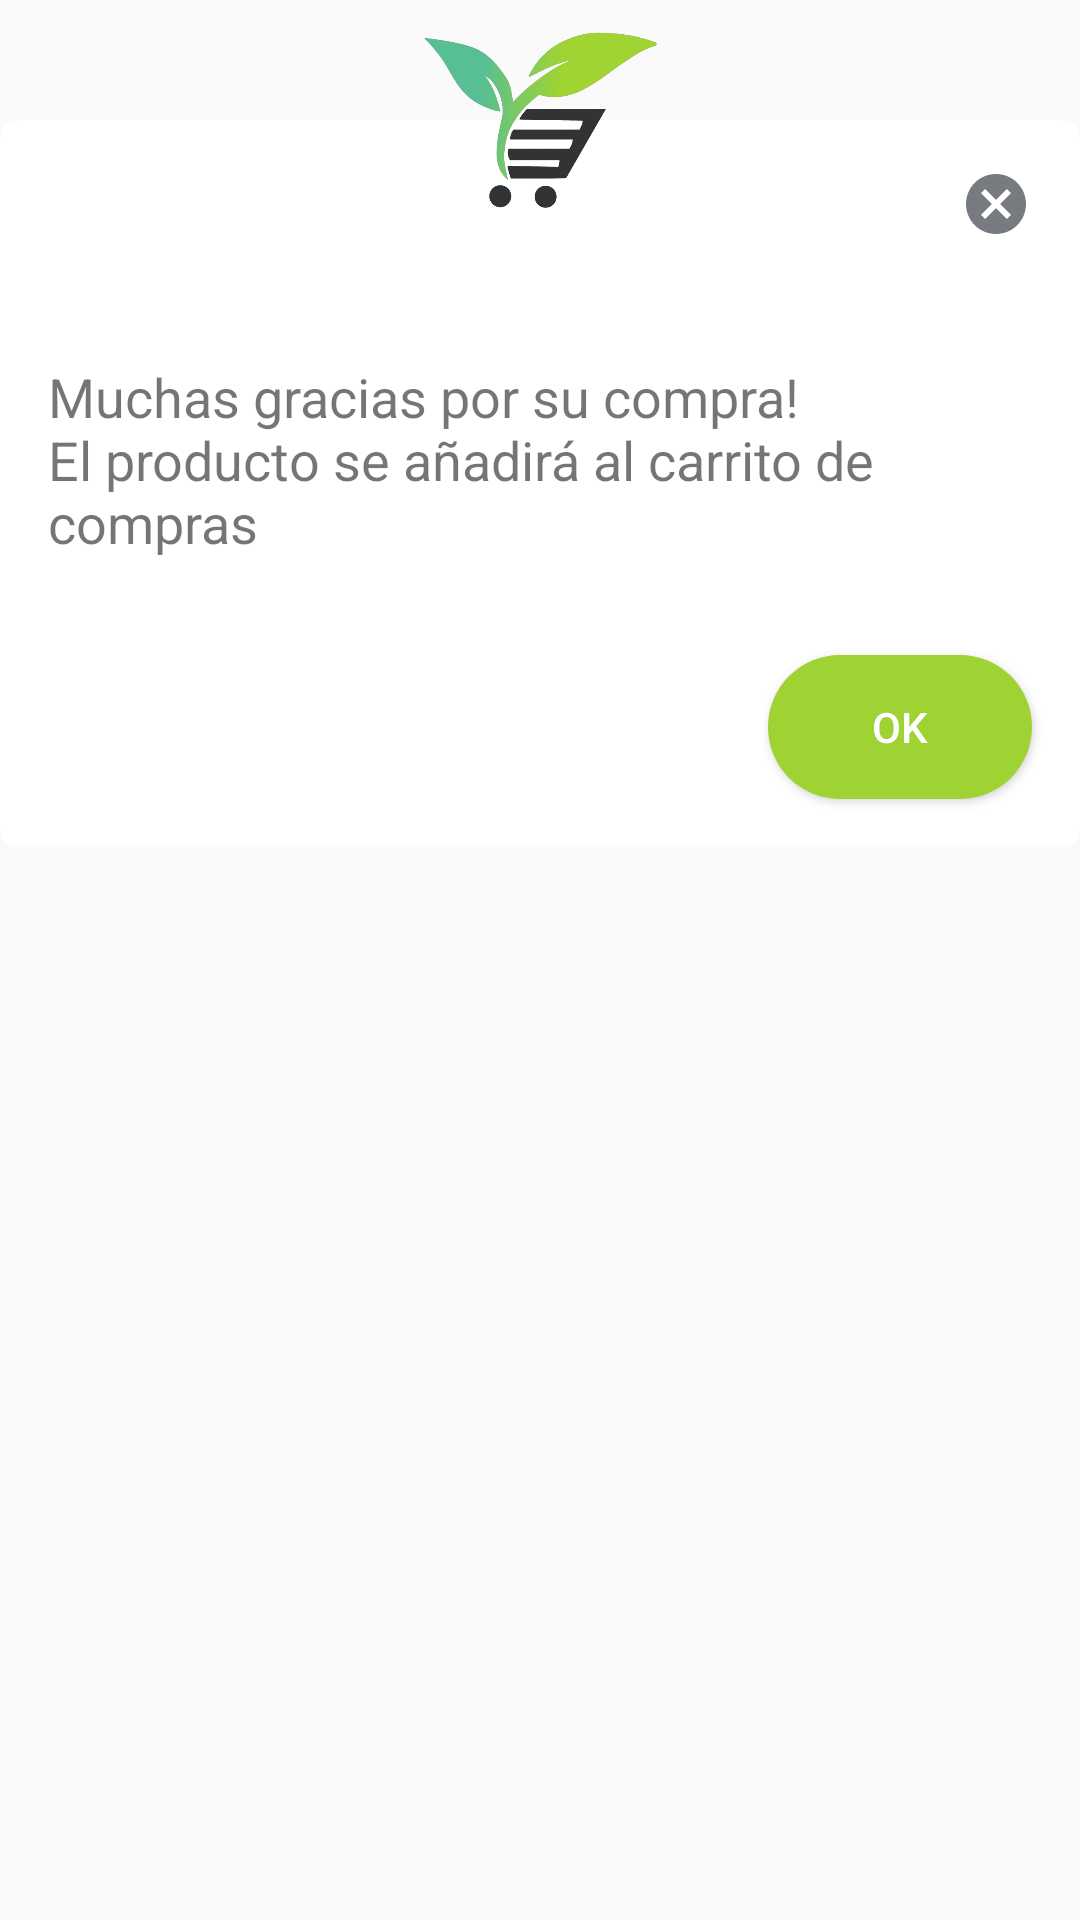

Icons on this 1080px x 1920px Android screen, each with the point to tap as point (x, y):
cancel: point (996, 204)
